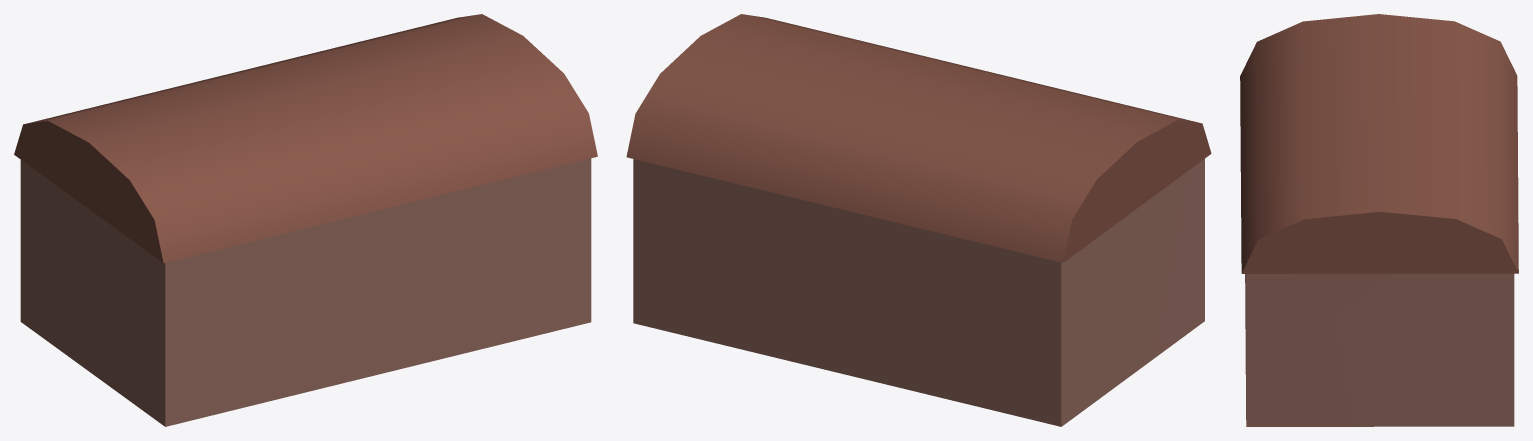
File: prop_053.glb
The picture shows the model from 3 angles, left to right: view 1: azimuth 30°, elevation 25°; view 2: azimuth 150°, elevation 25°; view 3: azimuth 270°, elevation 25°; orthographic projection. The views are drawn at different scales.
Parts seen in each view (by area): view 1: prop_053; view 2: prop_053; view 3: prop_053.
Boxes of the visible parts, bbox=[...] form: prop_053: bbox=[14, 14, 597, 426]; prop_053: bbox=[626, 14, 1211, 426]; prop_053: bbox=[1240, 14, 1518, 426].
Size of the model in its own units: 0.2526 by 0.129 by 0.1502.
Materials: 1 (1 with a texture image).
